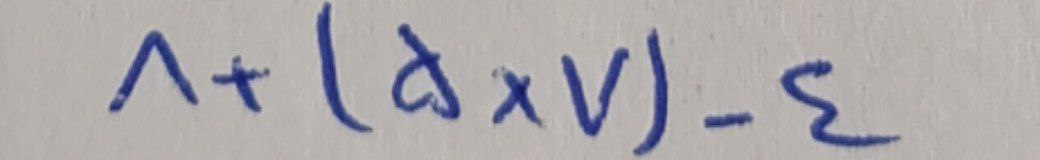character: (779, 54, 906, 145), (106, 20, 202, 140), (305, 0, 373, 144), (387, 20, 466, 122), (557, 43, 633, 138), (208, 42, 278, 118), (635, 24, 672, 156), (487, 65, 543, 132), (702, 106, 759, 129)
